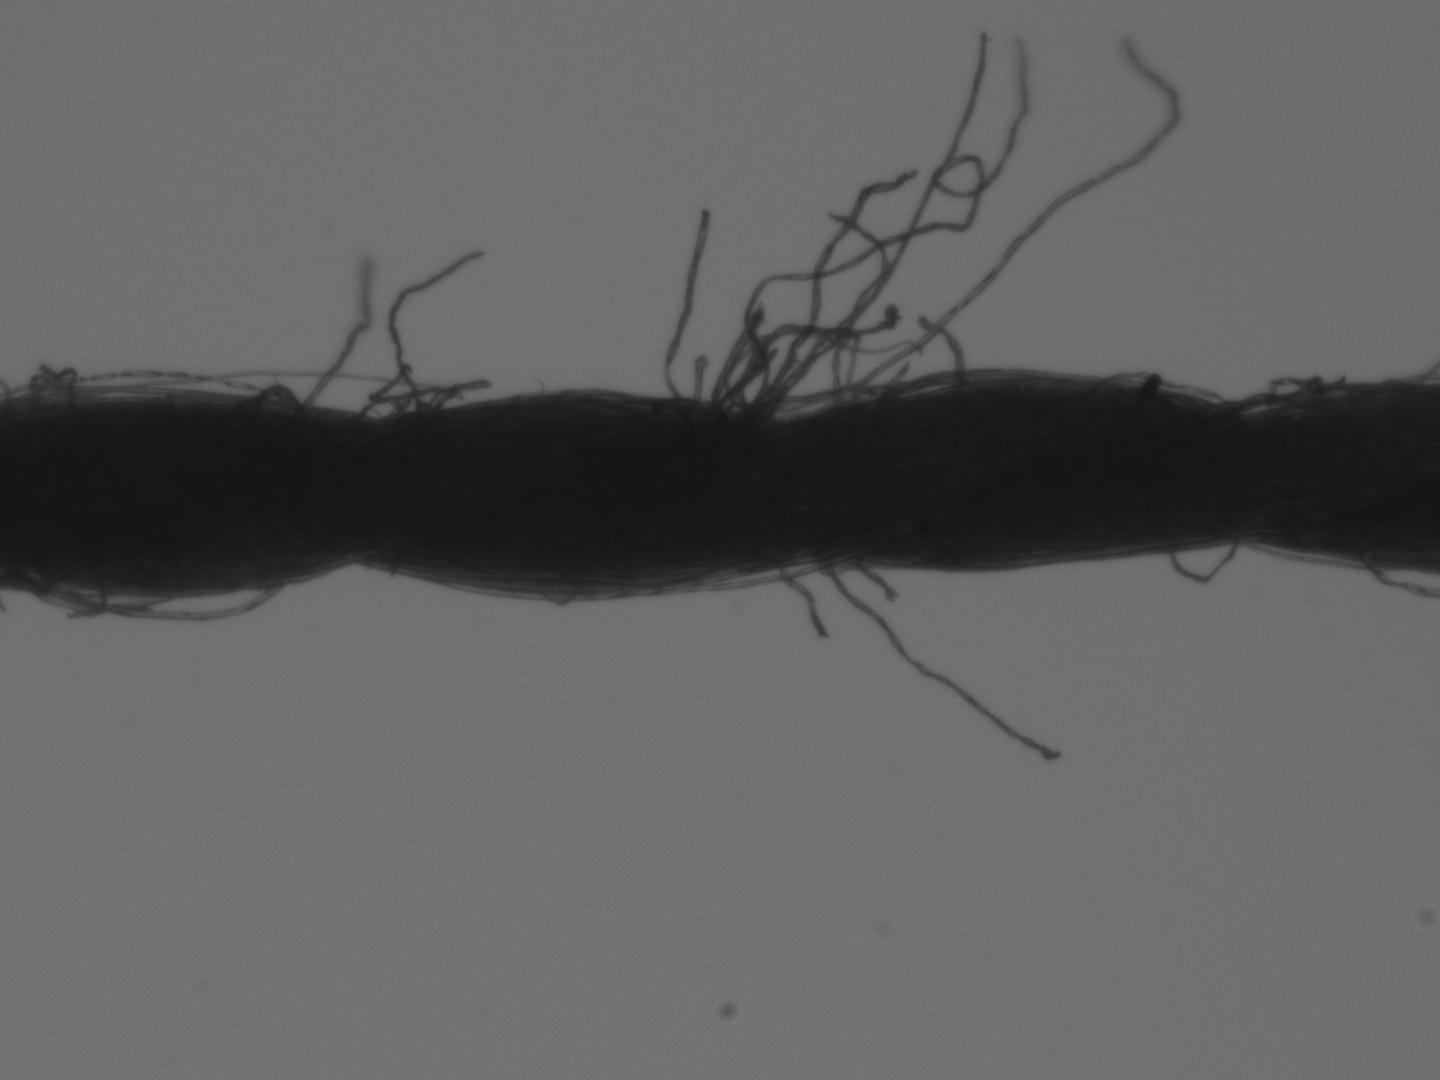loop_fiber: (32, 574, 293, 624), (358, 363, 497, 427), (887, 364, 1081, 406), (744, 378, 889, 423), (1083, 365, 1235, 402), (28, 584, 169, 616), (1168, 538, 1242, 587), (1267, 373, 1362, 407), (25, 357, 84, 404), (235, 379, 307, 413)
protruding_fiber: (813, 565, 1067, 766), (659, 206, 711, 423)
